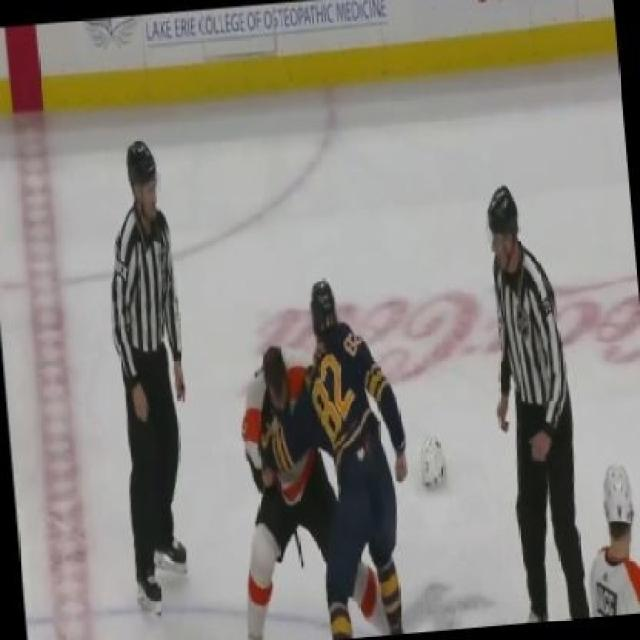fight: (204, 262, 442, 638)
non-fight: (464, 175, 608, 631), (83, 135, 219, 608)
